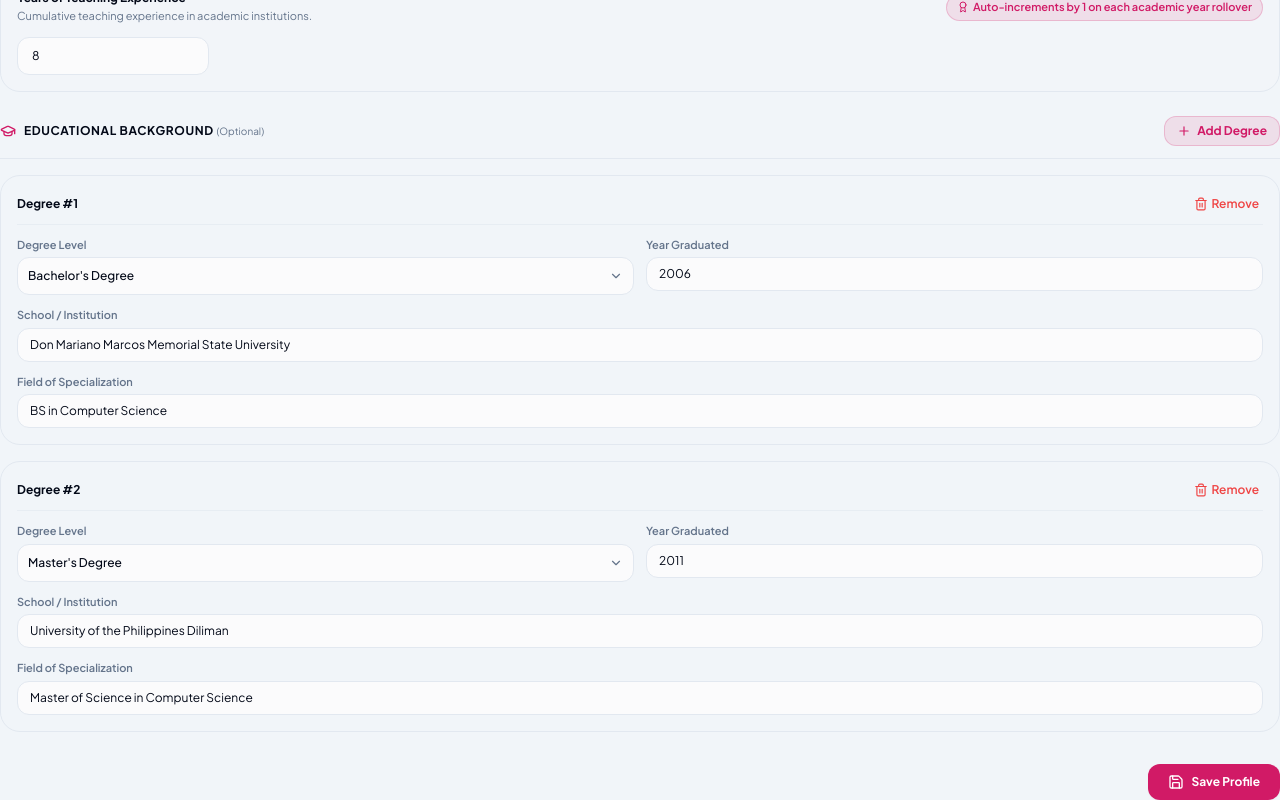
FacultyProfileForm Component › blocks submission if newly added degree level is left on "Select Degree"
This screenshot has width=1280, height=800.
(page scrolled)
Click the button "Add Degree" at [1222, 130], box [1164,116,1279,146]
(page scrolled)
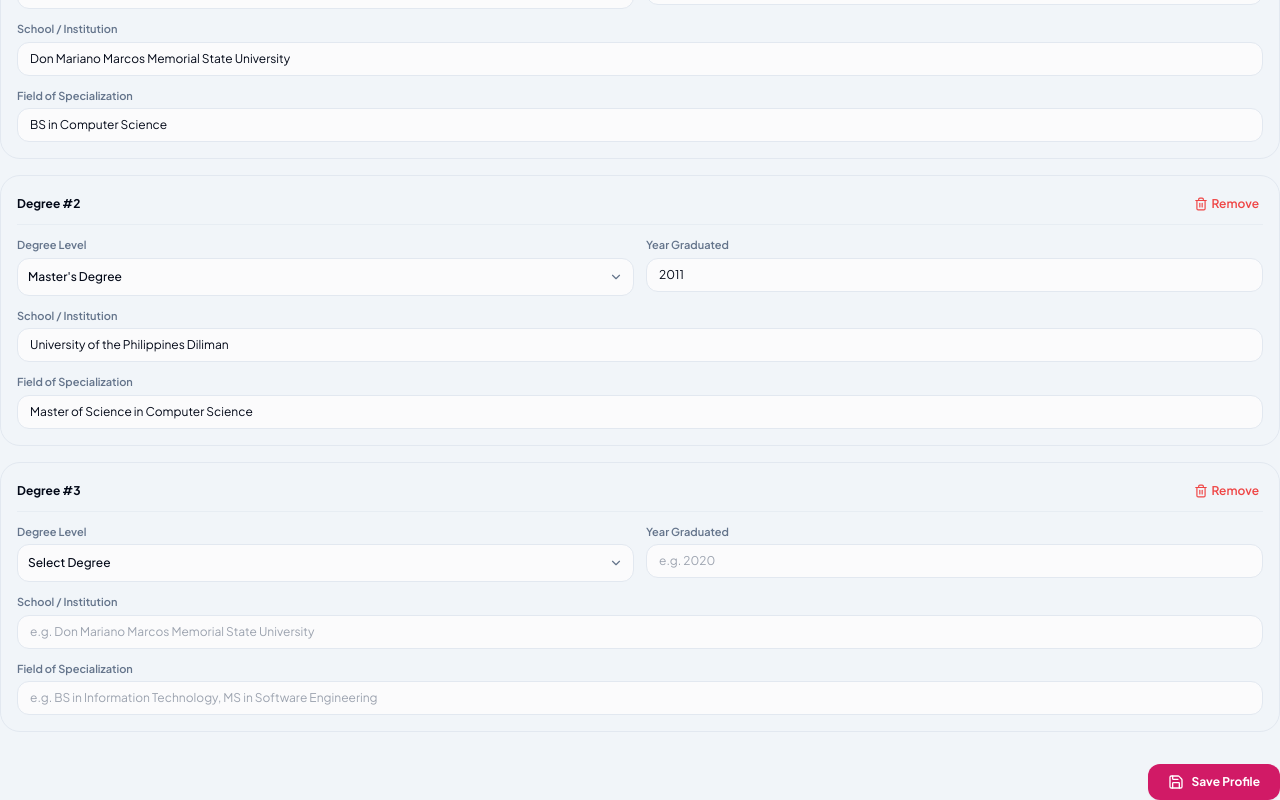
// Fill in other fields but leave degree level unselected
Type "Test University" into the 3rd field labelled "School / Institution" at [640, 632], box [17,614,1263,648]
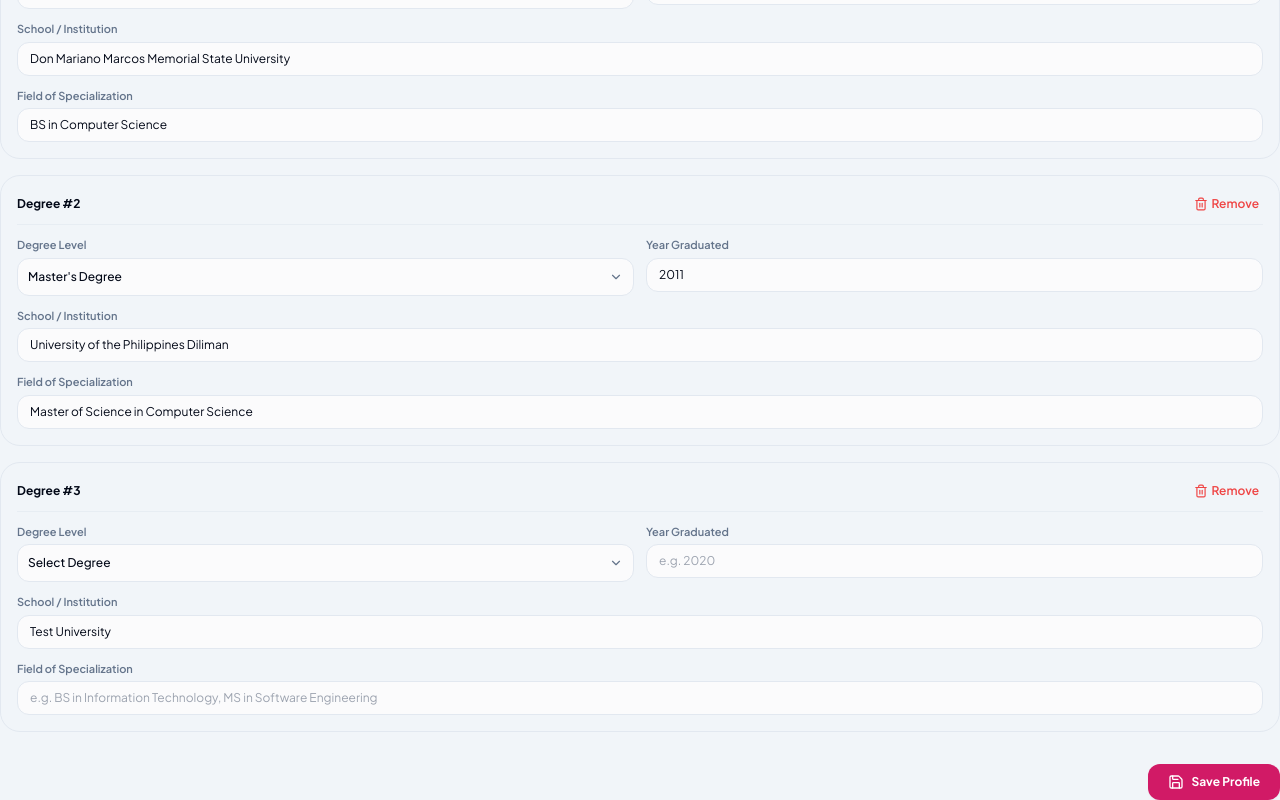
Click the button "Save Profile" at [1214, 782], box [1148,764,1279,799]
(page scrolled)
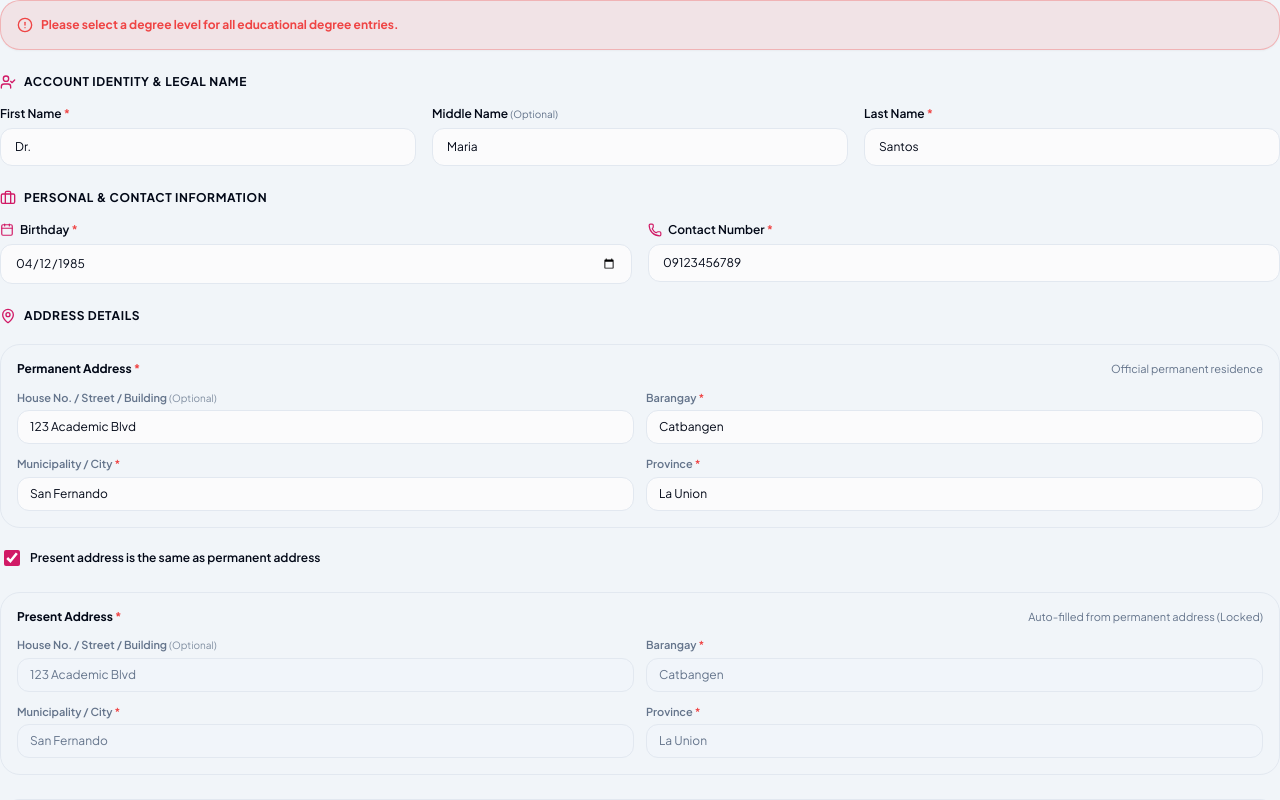
Now the text "Please select a degree level for all educational degree entries" is shown, box [41,17,398,32]
